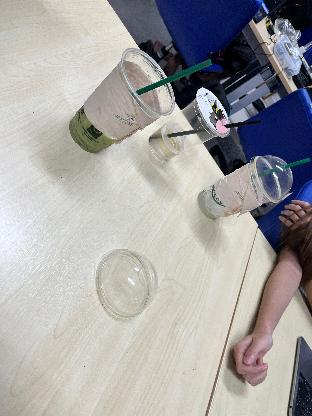Plastic Cup: (62, 48, 174, 148), (142, 84, 232, 162), (84, 245, 161, 327), (194, 150, 281, 220)
